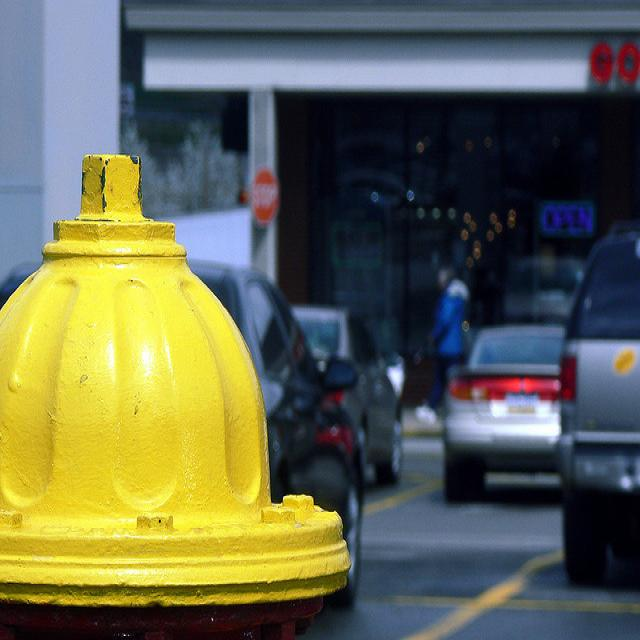Vehicle: (188, 256, 369, 606), (552, 229, 640, 583), (444, 328, 565, 498), (290, 305, 406, 479)
